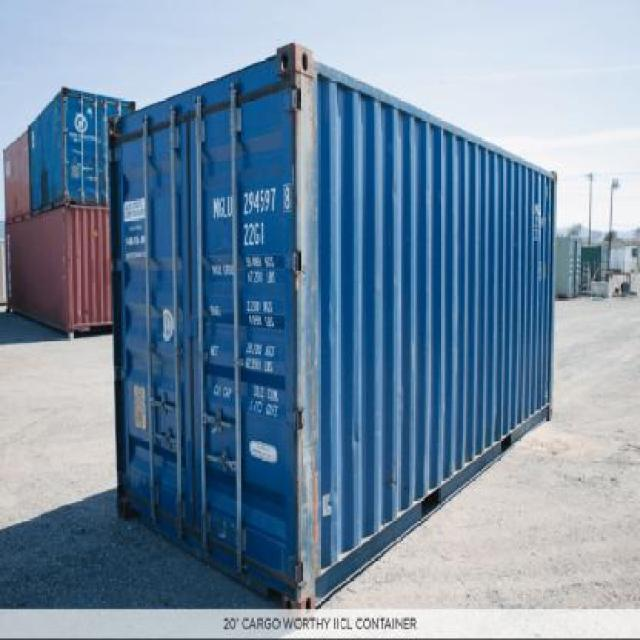ISO: (239, 222, 268, 253)
container_number: (216, 179, 296, 219)
